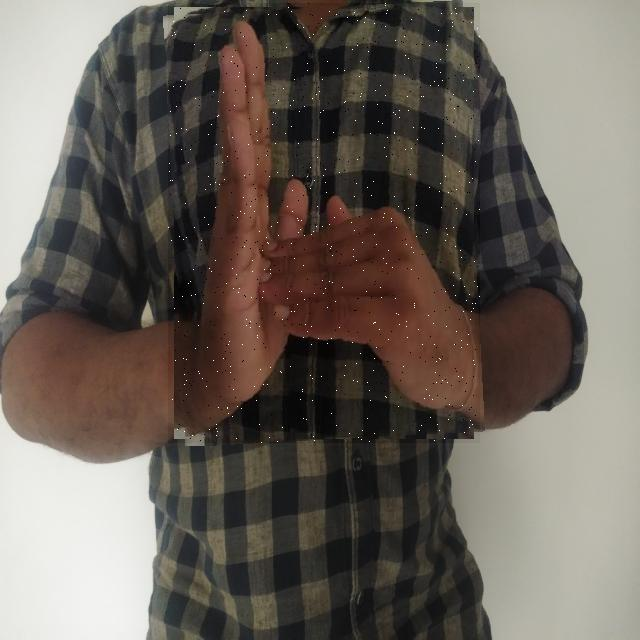Z: (168, 3, 480, 443)
